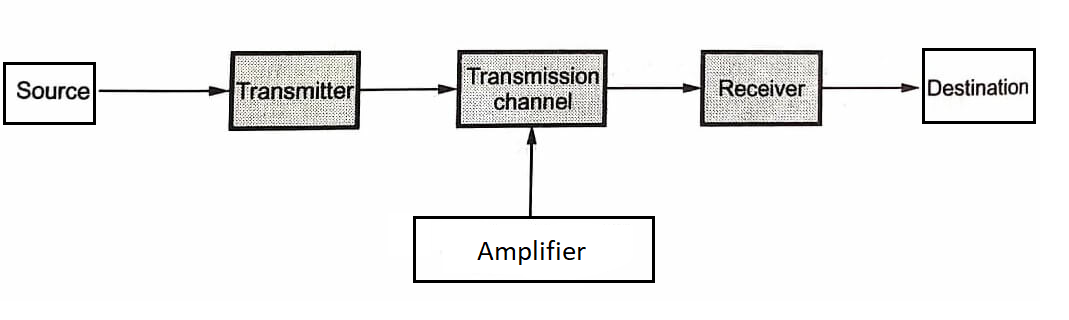arrow: (95, 84, 231, 103), (816, 78, 921, 95), (604, 79, 700, 96), (524, 126, 536, 218), (357, 84, 459, 94)
process: (409, 211, 659, 288), (453, 46, 610, 133), (226, 46, 363, 134), (696, 46, 826, 129), (919, 44, 1039, 128), (1, 56, 99, 128)
text: (463, 63, 599, 111), (475, 236, 585, 266), (229, 78, 355, 102), (926, 76, 1031, 100), (716, 76, 805, 102), (15, 77, 93, 103)
